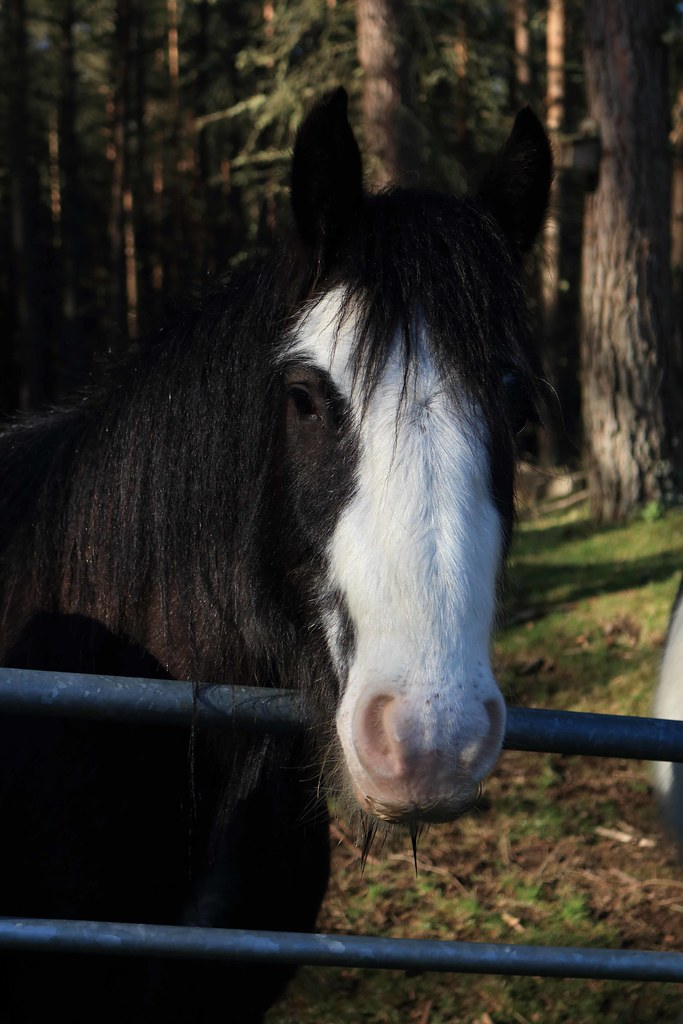horse: (4, 119, 567, 869)
